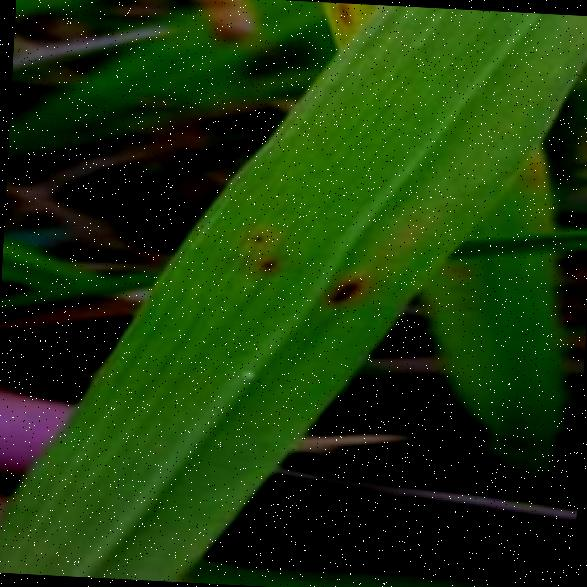Brown_Spot: (312, 263, 376, 313), (248, 246, 288, 276), (244, 226, 268, 247)
